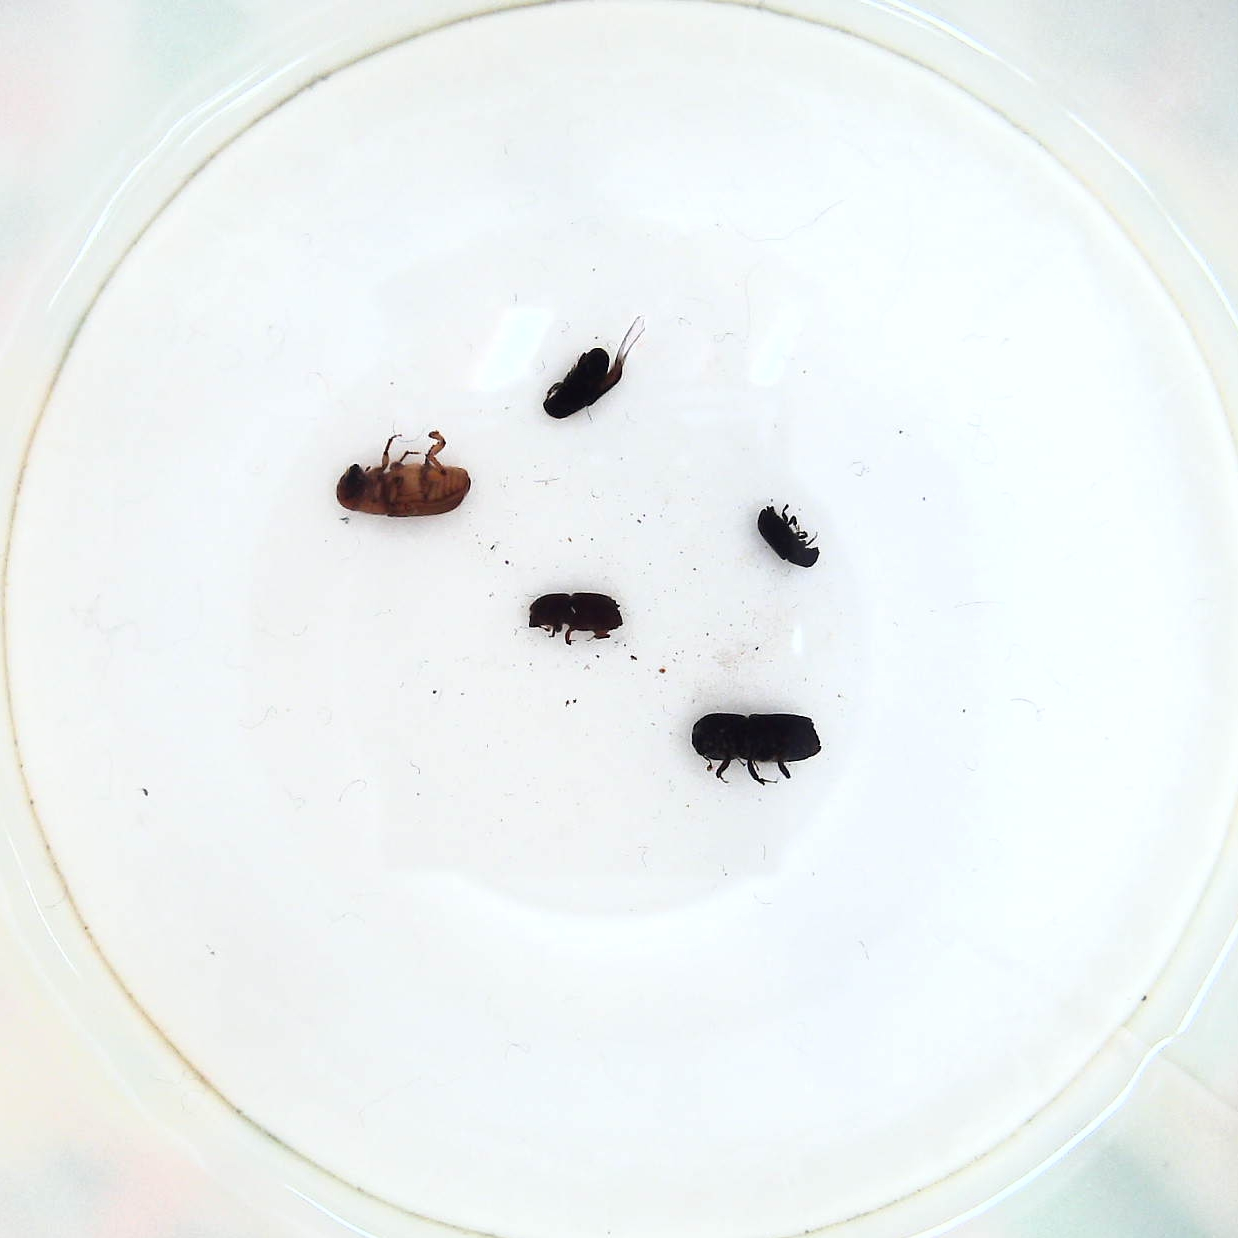Boerner: (684, 703, 831, 785)
Leconte: (333, 431, 475, 523)
armandi: (541, 323, 641, 421)
coleoptera: (748, 499, 828, 579)
linnaeus: (522, 587, 633, 650)
